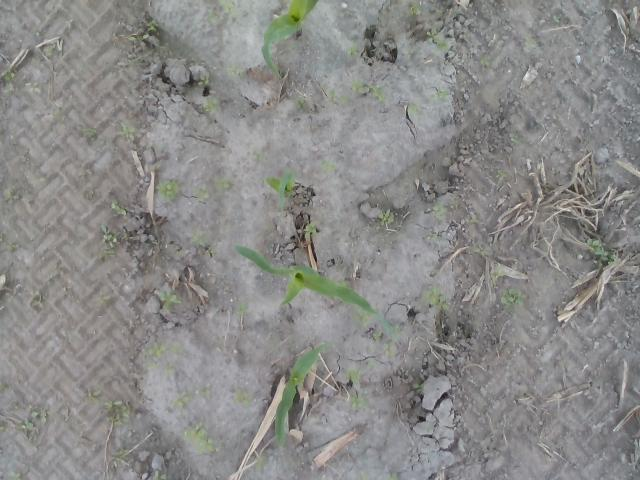Maize: (235, 242, 378, 316), (274, 344, 324, 450), (262, 0, 319, 75), (266, 168, 298, 210)
Weeds: (183, 416, 216, 452), (584, 237, 616, 265), (100, 225, 128, 257), (142, 340, 184, 360), (351, 78, 384, 102), (422, 284, 451, 310), (190, 230, 217, 257), (104, 400, 130, 426), (426, 26, 450, 52), (158, 289, 183, 313), (500, 286, 528, 306), (167, 388, 195, 408), (0, 63, 16, 96), (213, 174, 240, 193), (380, 315, 403, 337), (4, 186, 22, 213), (158, 180, 182, 200), (230, 387, 252, 408), (348, 390, 370, 410), (116, 119, 138, 139), (432, 200, 450, 222), (217, 0, 240, 17), (343, 368, 362, 388), (200, 95, 218, 113), (318, 158, 336, 176), (406, 0, 424, 18), (110, 198, 128, 216), (384, 336, 398, 358), (194, 71, 211, 89), (28, 289, 46, 306), (142, 162, 162, 177), (24, 80, 44, 95), (144, 17, 161, 34), (378, 208, 396, 224), (30, 408, 48, 424), (192, 185, 210, 201), (42, 44, 61, 59), (303, 222, 319, 239), (161, 360, 178, 376), (226, 64, 245, 78), (324, 87, 338, 106), (432, 88, 451, 102), (79, 128, 98, 142), (55, 108, 67, 130), (126, 35, 148, 47), (16, 418, 36, 431), (114, 447, 130, 463), (87, 384, 102, 401), (234, 303, 248, 318), (490, 271, 502, 288), (412, 376, 423, 394), (524, 35, 538, 49), (143, 143, 164, 152), (511, 130, 524, 144), (200, 386, 212, 400), (406, 102, 422, 112), (0, 416, 10, 432), (152, 470, 168, 480), (346, 47, 360, 58), (322, 342, 337, 352), (254, 455, 264, 470), (7, 470, 22, 480), (426, 231, 442, 240), (466, 214, 478, 226), (372, 332, 384, 344), (143, 361, 159, 370), (5, 243, 18, 254), (384, 471, 398, 480), (479, 246, 490, 256), (0, 382, 10, 393), (366, 360, 378, 369), (294, 99, 304, 109), (480, 56, 490, 66), (252, 151, 262, 161), (338, 95, 349, 104), (47, 272, 54, 286), (552, 14, 561, 24), (496, 169, 506, 178), (207, 8, 218, 16), (360, 470, 368, 480), (0, 232, 7, 243), (287, 43, 296, 49)
